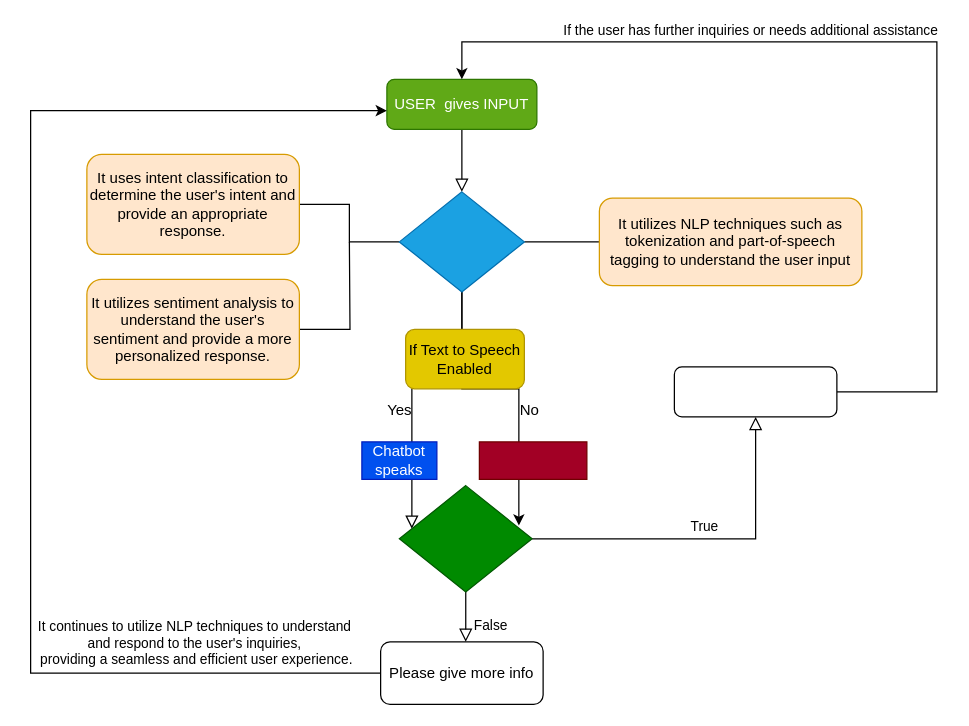
Image size: 969x726. Some labels were removed from this diagram. Each missing label, with the centre of its shape:
"(Response) is correct" goes at pixel 755 391.
"Chatbot" goes at pixel 461 241.
"Chatbot doesn't speak" goes at pixel 532 460.
"It provides a response" goes at pixel 465 538.
